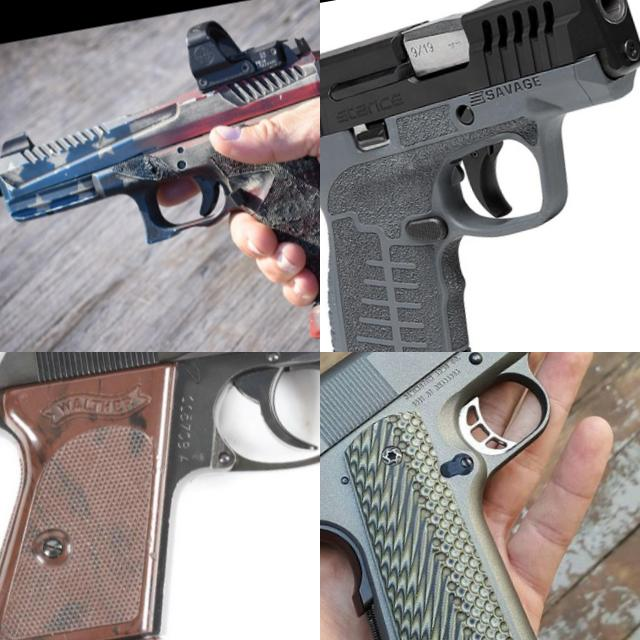handgun: (0, 0, 320, 352), (320, 0, 640, 352), (0, 352, 320, 640), (320, 352, 640, 640)
